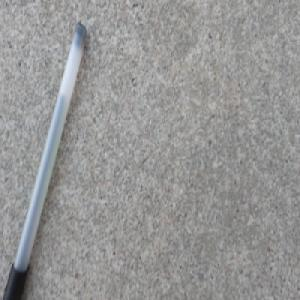Pen: (1, 21, 88, 300)
